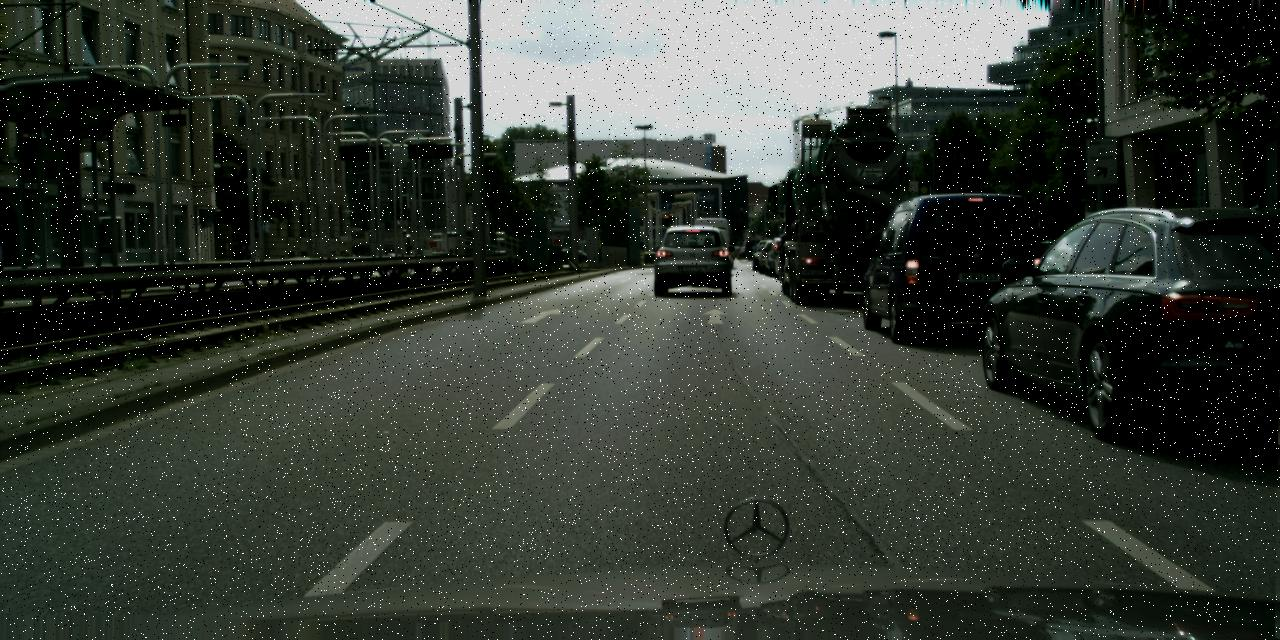ped: (744, 236, 754, 260), (341, 251, 363, 258), (408, 248, 414, 264)
